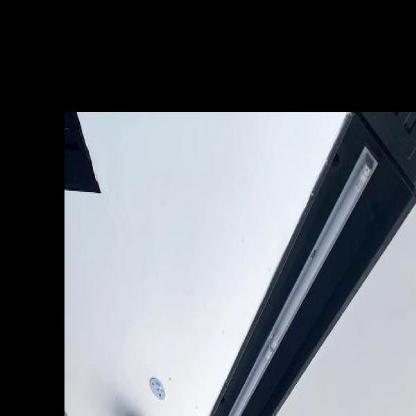light_off: (182, 141, 382, 414)
